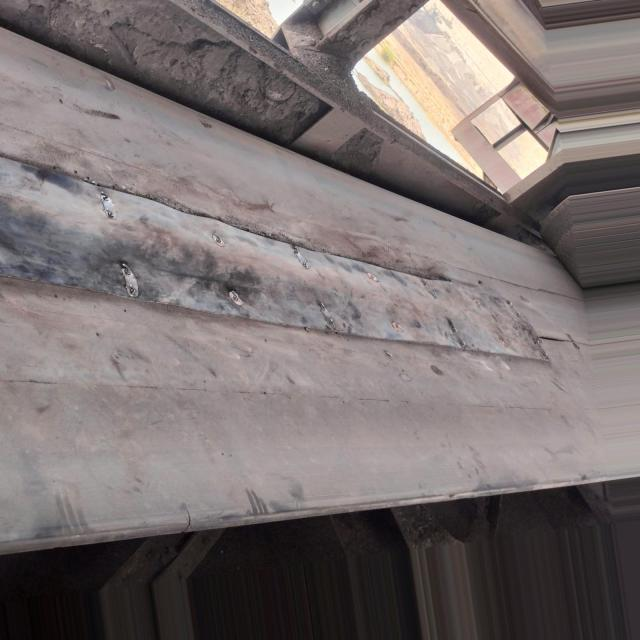patch work: (0, 148, 562, 363)
